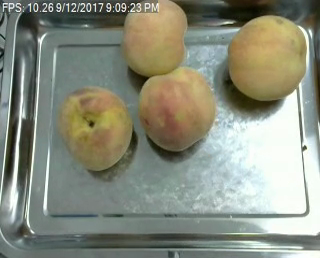Peach: (227, 13, 309, 102), (139, 65, 216, 151), (56, 87, 132, 171), (122, 0, 190, 79)
